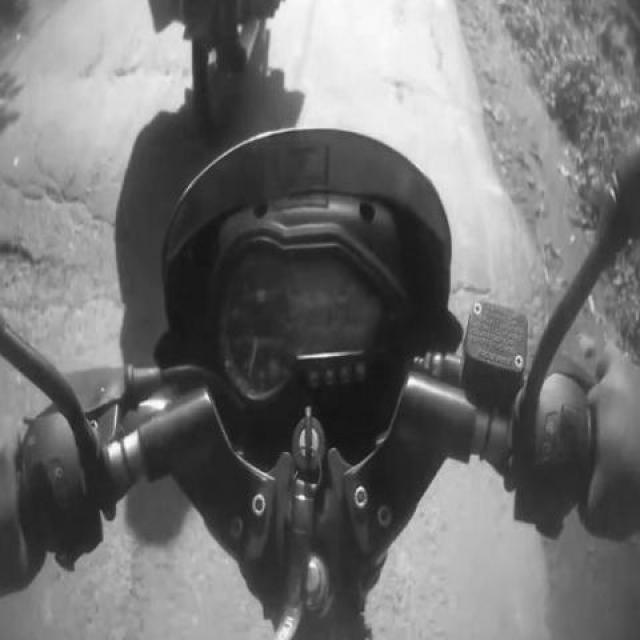Pothole: (12, 150, 99, 225), (3, 234, 49, 293), (100, 50, 148, 84), (378, 78, 421, 105)
Unmarked Bump: (0, 81, 160, 297), (382, 128, 554, 318), (263, 74, 486, 129)
